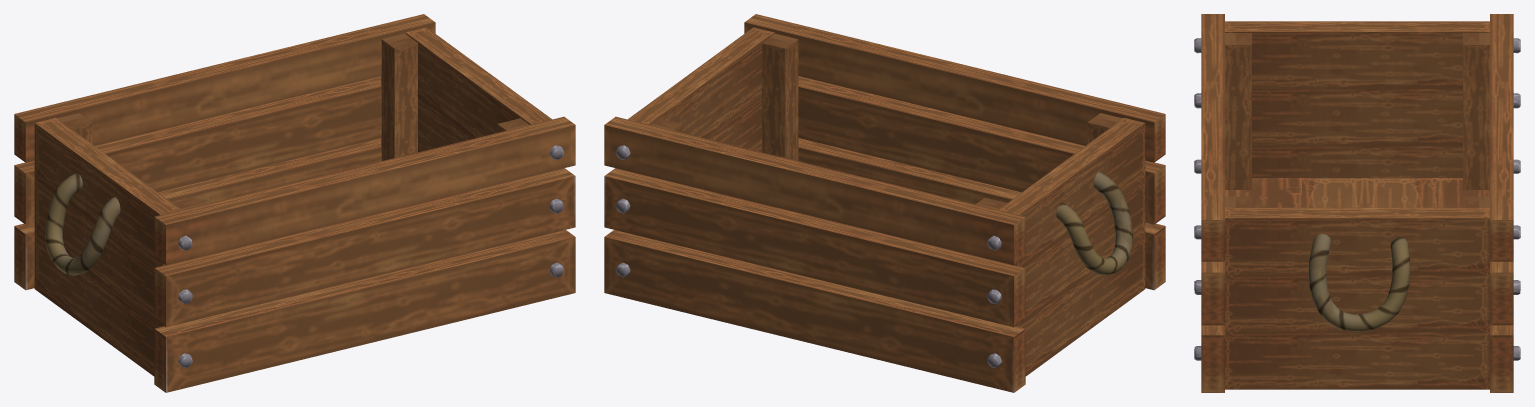
File: FarmCrate_Empty.glb
3 views of the same model, side by side, from view 1: azimuth 30°, elevation 25°; view 2: azimuth 150°, elevation 25°; view 3: azimuth 270°, elevation 25° (orthographic). The views are drawn at different scales.
Visible parts, largest first — view 1: FarmCrate_Empty; view 2: FarmCrate_Empty; view 3: FarmCrate_Empty.
Part boxes in pixels (bbox=[...]): FarmCrate_Empty: bbox=[14, 14, 575, 392]; FarmCrate_Empty: bbox=[604, 14, 1165, 392]; FarmCrate_Empty: bbox=[1194, 14, 1520, 392].
Bounding box in the file's own units: 0.7138 × 0.2438 × 0.4142.
2 materials, 2 textured.
